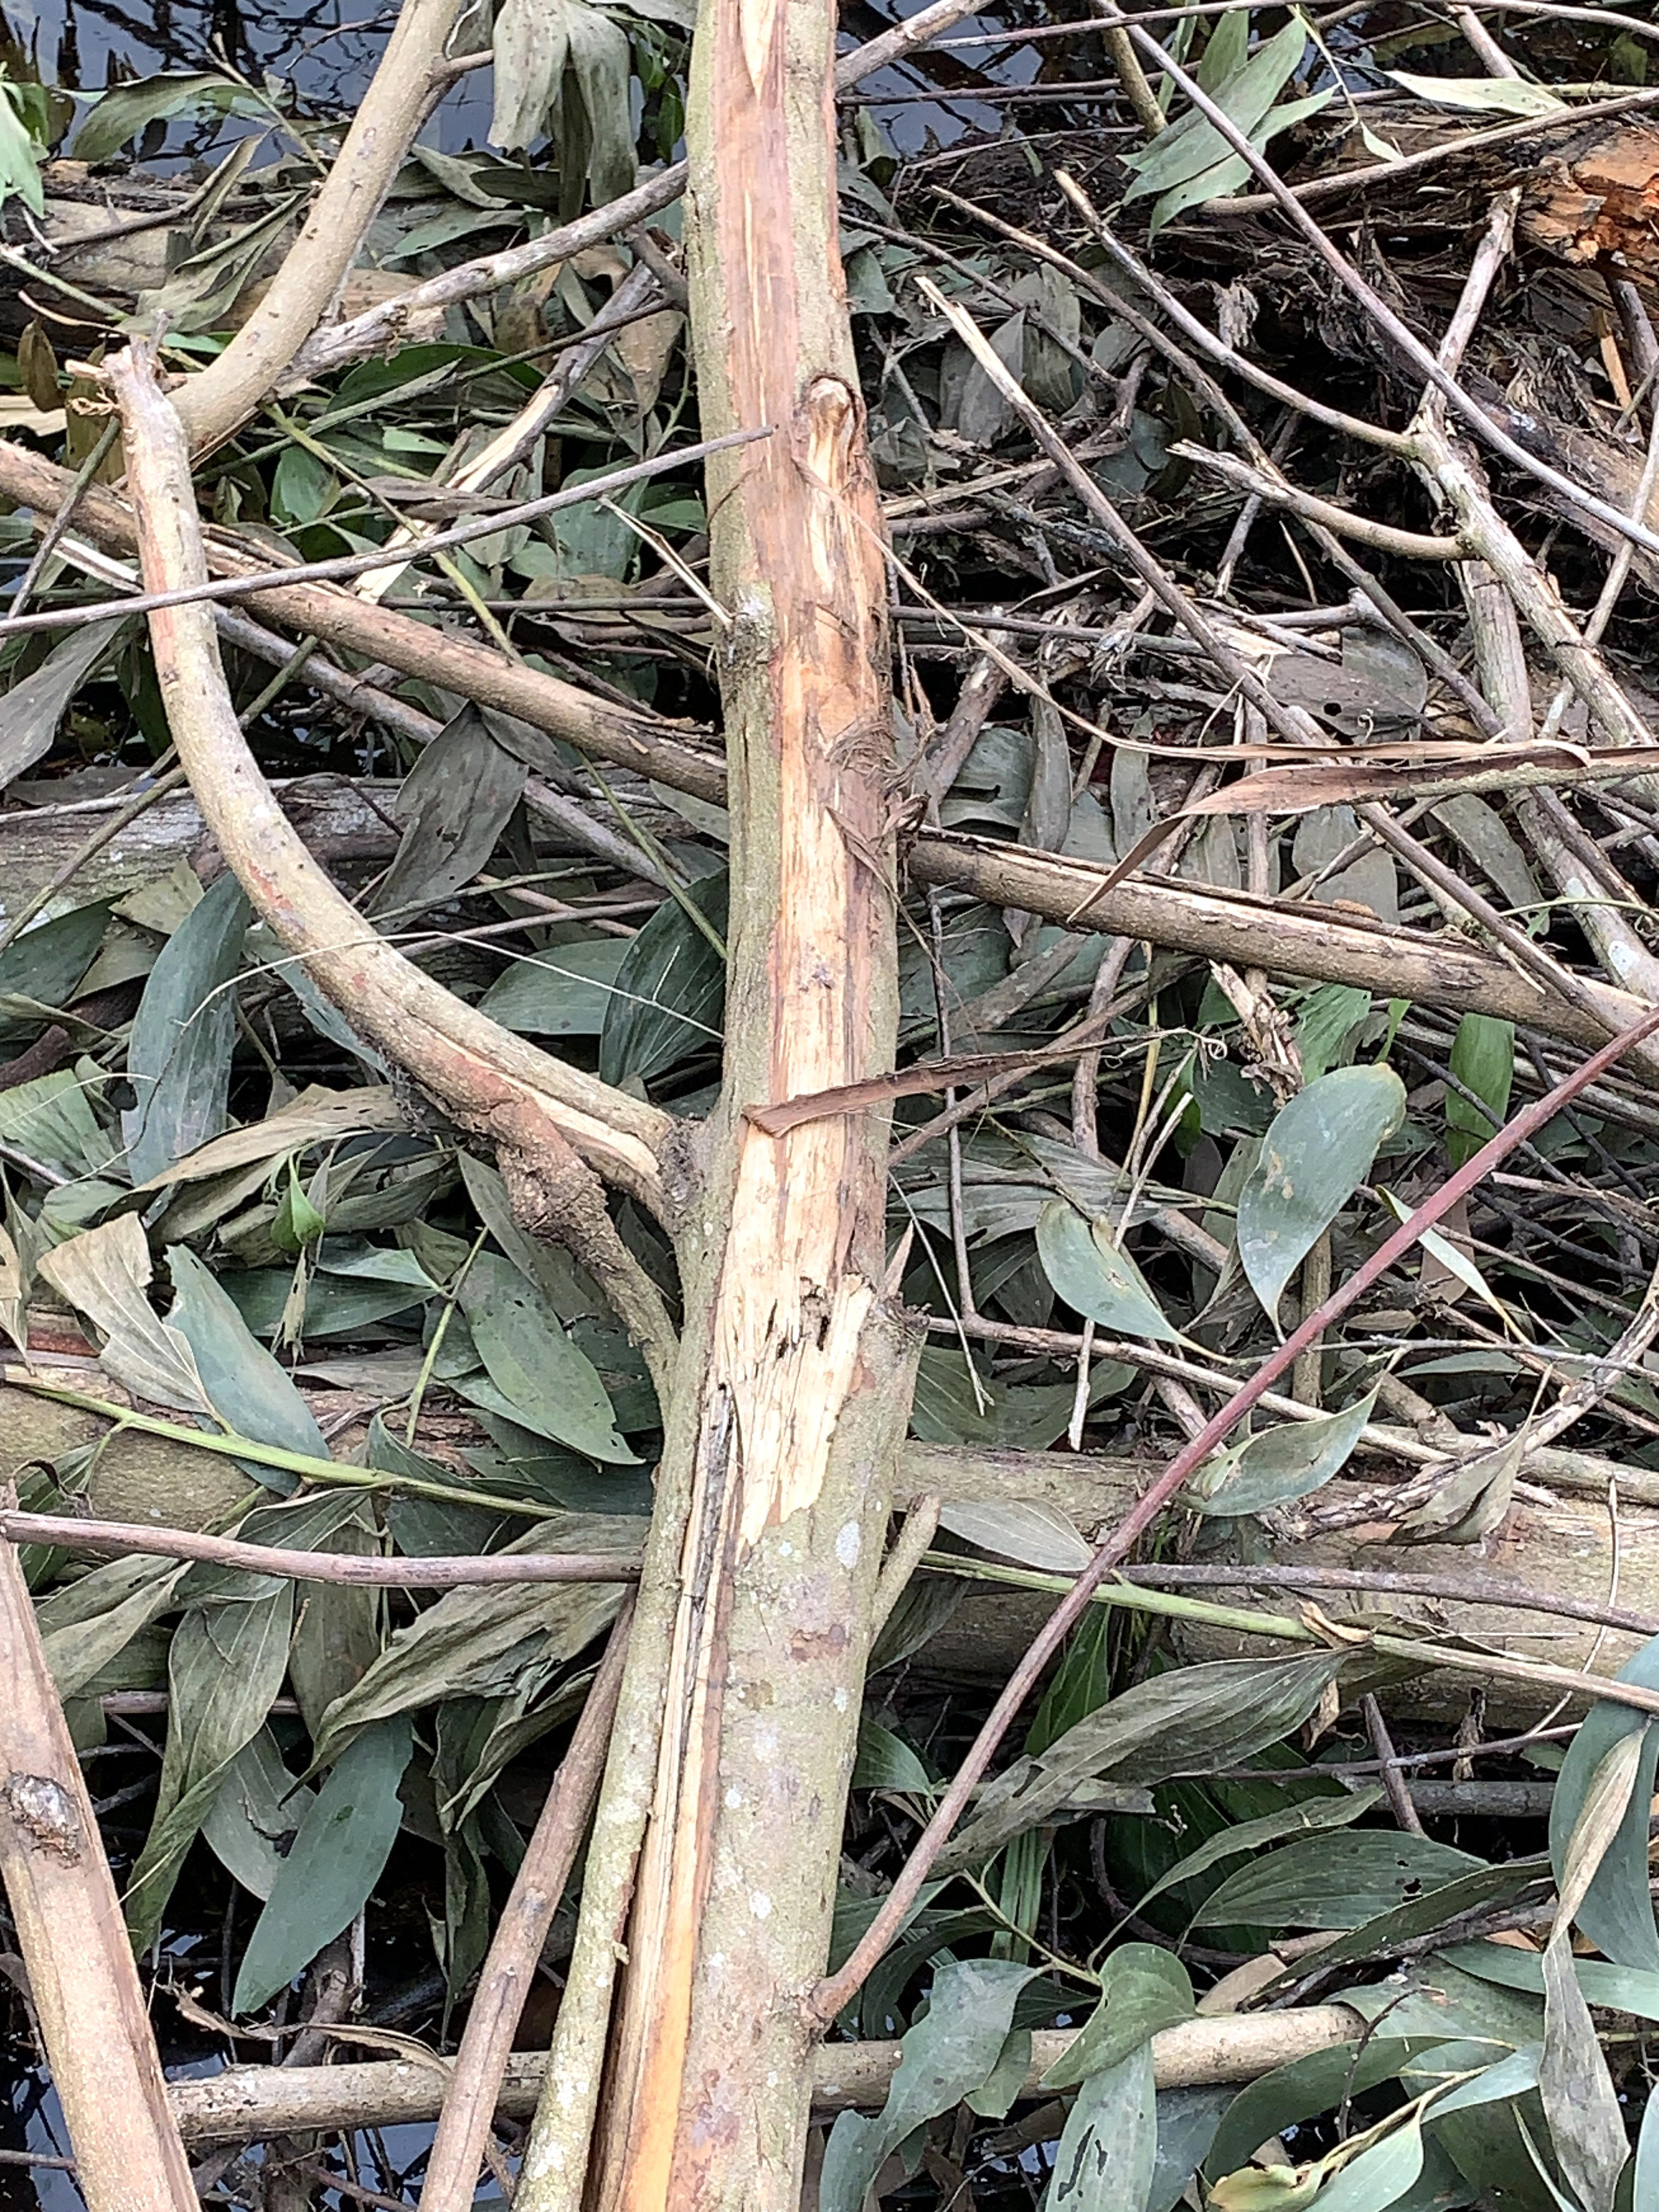Mammals Attack: (653, 17, 943, 2212)
